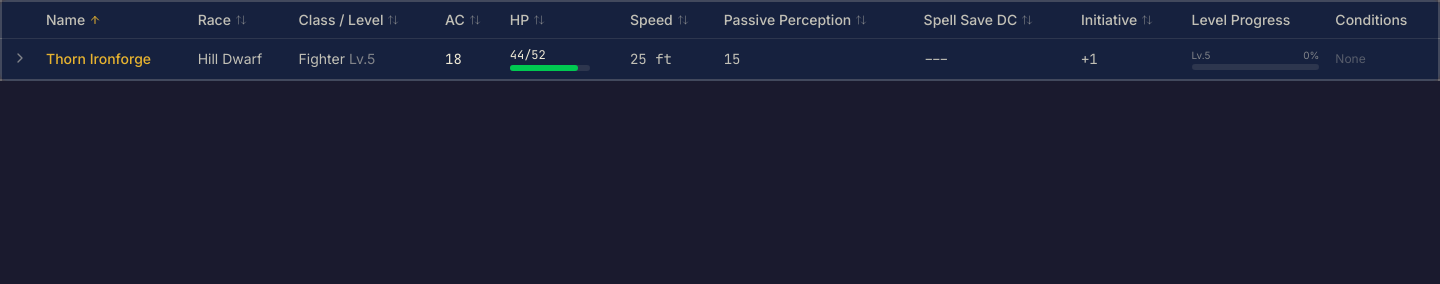
Test: PartyStatsGrid › should expand row on chevron click
Click the button named "Expand details for Thorn Ironforge".
click(20, 58)  # box [10, 48, 30, 68]
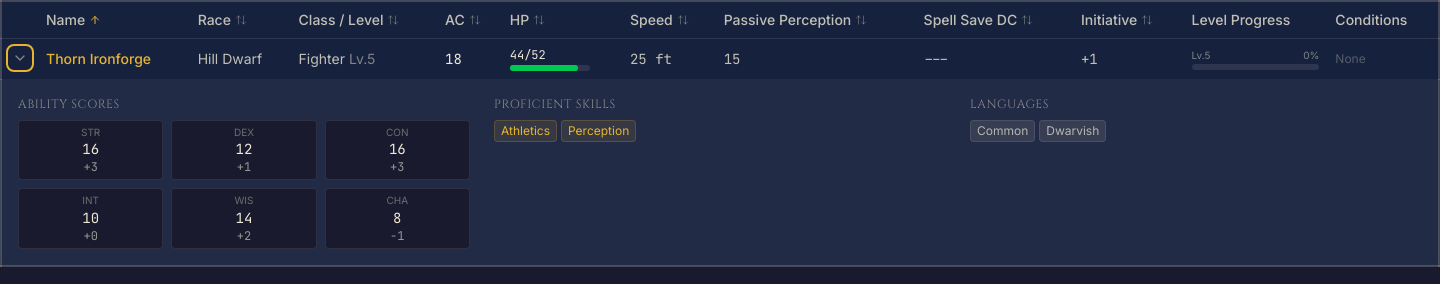
Expected: the heading "Ability Scores" is shown, [18, 96, 120, 112]
Expected: the heading "Proficient Skills" is shown, [494, 96, 616, 112]
Expected: the heading "Languages" is shown, [970, 96, 1049, 112]
